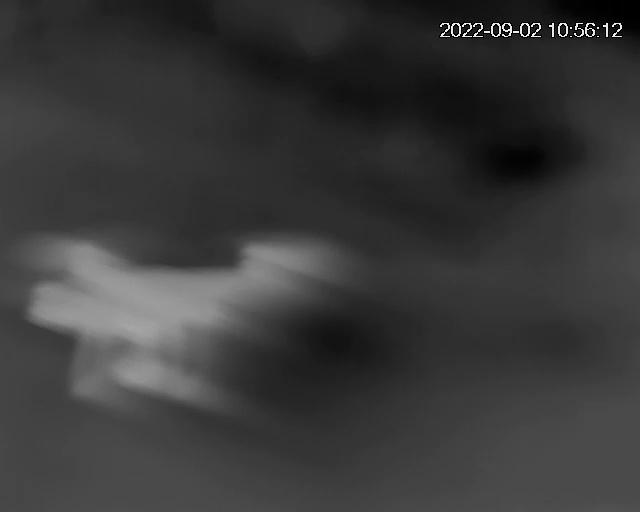DJI-Phantom: (34, 229, 324, 412)
